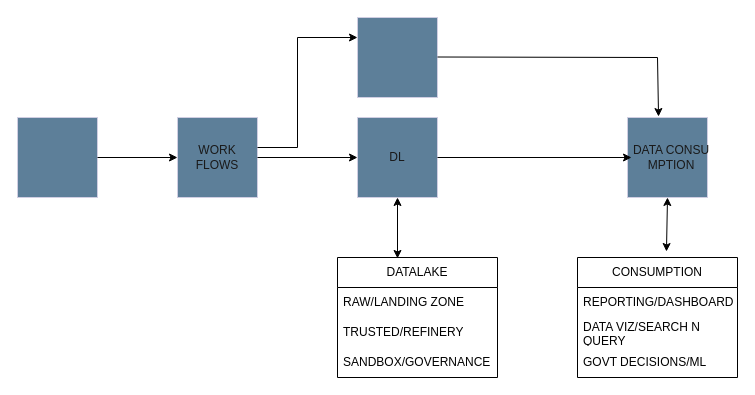
The diagram is 755 pixels wide and 395 high, and some of its shapes have lost their labels. Here are the shapes that lost their labels. From the top down, the centre of each, then its label:
(x=397, y=57): DWH
(x=57, y=157): DATA SOURCES
